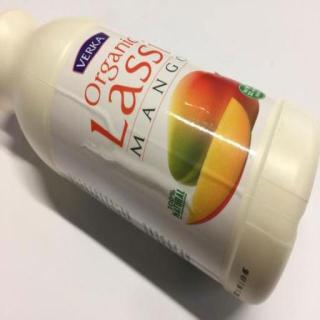Plastic-bottle: (1, 10, 320, 306)
